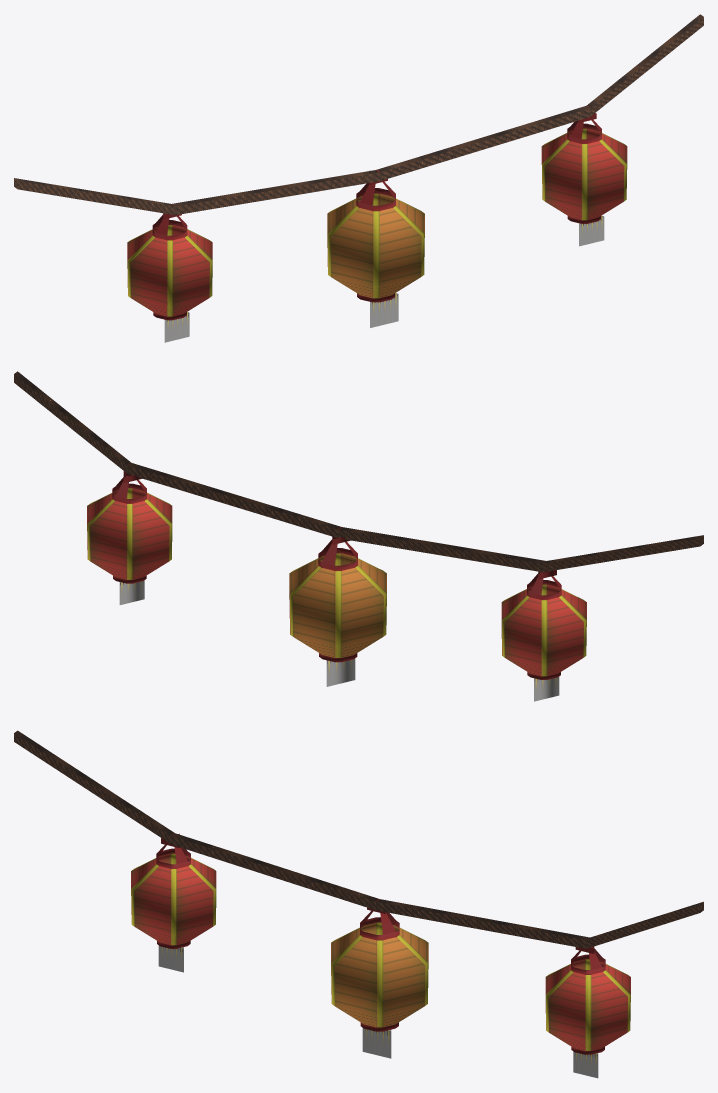
File: LampWreath_Art.fbx
3 views of the same model, one above another, from view 1: azimuth 30°, elevation 25°; view 2: azimuth 150°, elevation 25°; view 3: azimuth 330°, elevation 25° (orthographic).
Visible parts, largest first — view 1: LampWreath_Art; view 2: LampWreath_Art; view 3: LampWreath_Art.
Part boxes in pixels (<box>): LampWreath_Art: <box>14,14,703,342</box>; LampWreath_Art: <box>14,371,703,701</box>; LampWreath_Art: <box>14,730,703,1078</box>.
Bounding box in the file's own units: 6.66 × 2.15 × 0.8206.
